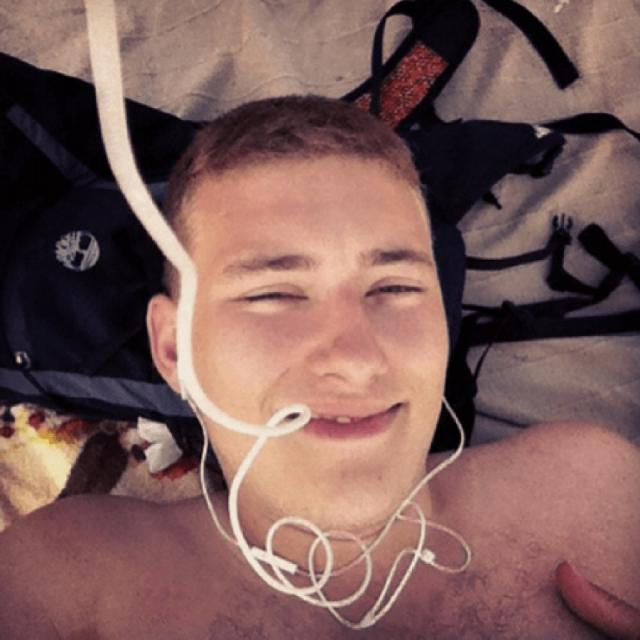earlobe: (158, 358, 184, 397)
eye: (238, 286, 310, 308), (366, 277, 424, 302)
nose: (322, 374, 394, 401)
wholeear: (146, 294, 184, 397)
